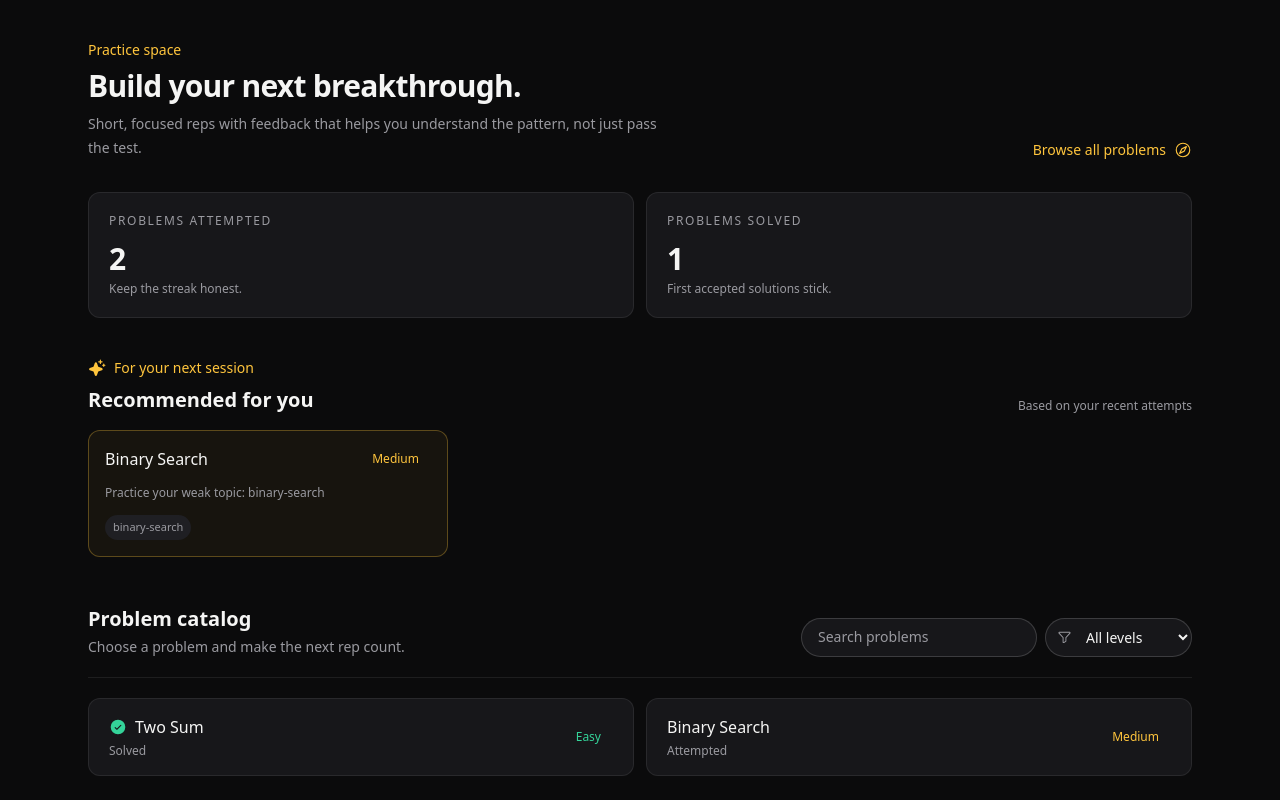
it: ProblemsPage › filters the catalog without another network request
The width and height of the screenshot is (1280, 800).
expect the heading "Problem catalog" is shown: met, box [88,604,251,632]
Select "Medium" in the dropdown named "Filter by difficulty": (1118, 637) [1045,618,1192,656]
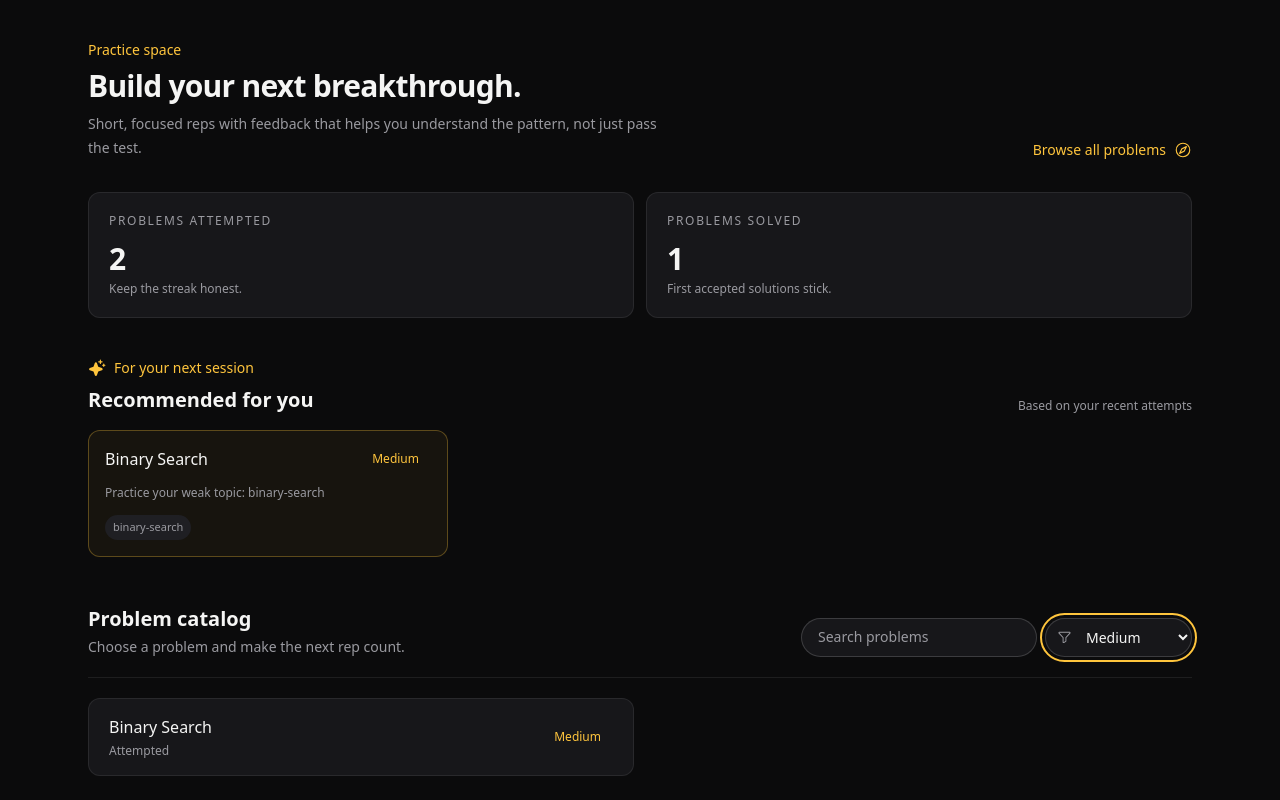
expect the heading "Binary Search" is shown: met, box [105,447,208,471]
expect the link "Two Sum" is gone: met
